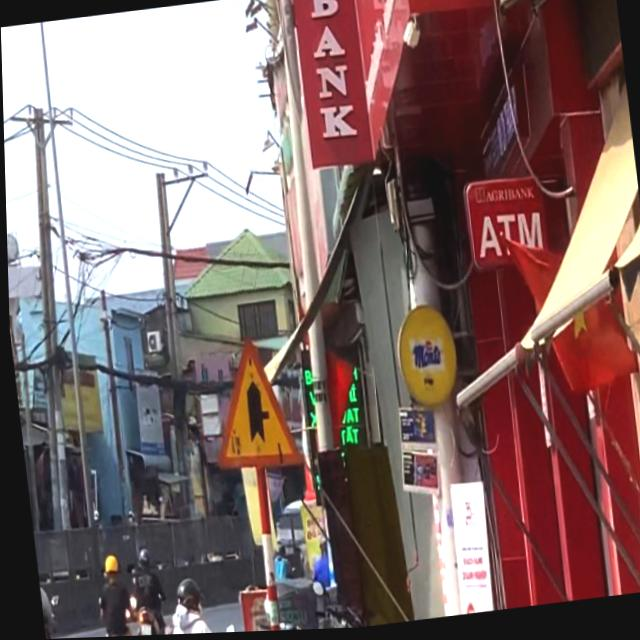Giao nhau voi duong khong uu tien ben phai: (200, 332, 301, 477)
